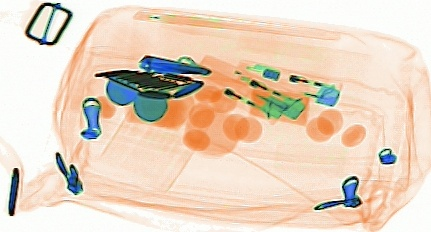lighter: (195, 54, 308, 117), (186, 64, 286, 124), (230, 58, 343, 104)
